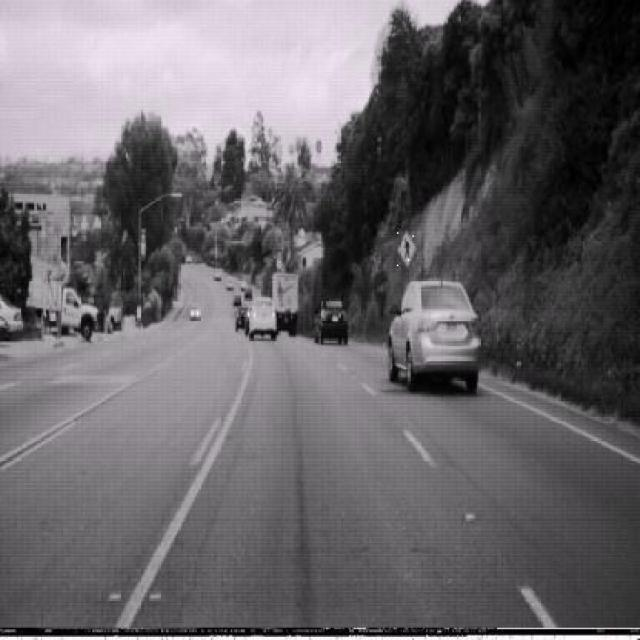pedestrianCrossing: (397, 228, 416, 268)
